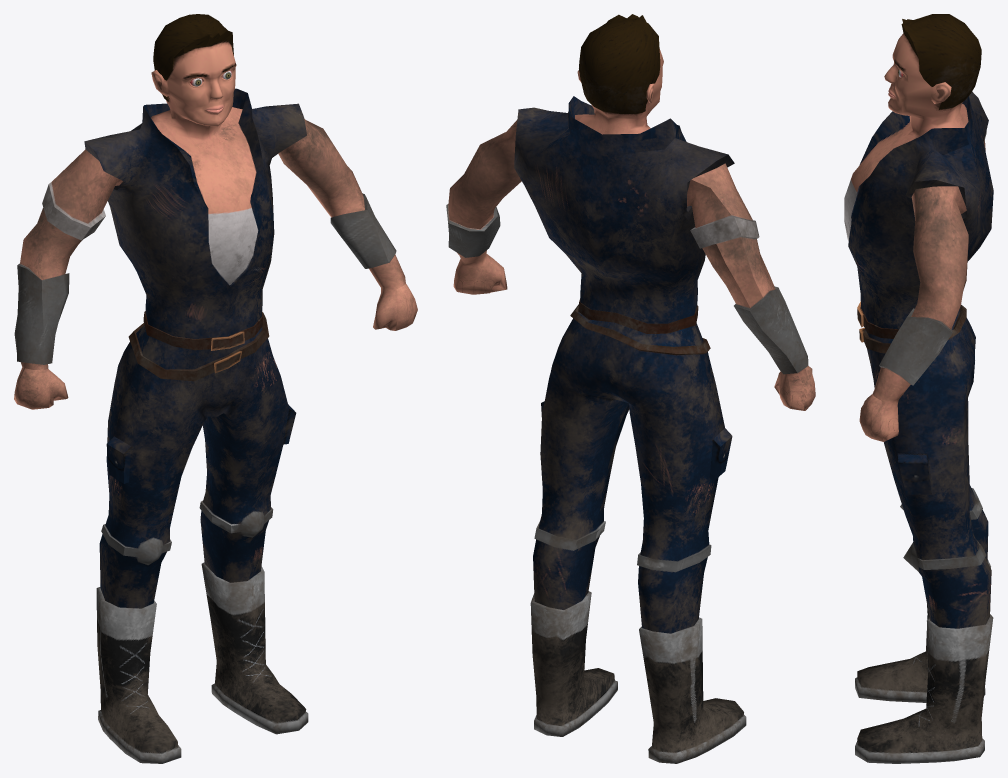
The model's file is Anim_idle_jugador.0022.obj.
3 renders of one model, left to right at view 1: azimuth 30°, elevation 25°; view 2: azimuth 150°, elevation 25°; view 3: azimuth 270°, elevation 25°, orthographic.
Parts seen in each view (by area): view 1: polySurface1; view 2: polySurface1; view 3: polySurface1.
Boxes of the visible parts, x1,y1,x2,y2 form: polySurface1: [14, 14, 417, 763]; polySurface1: [446, 14, 815, 763]; polySurface1: [844, 14, 993, 763].
Size of the model in its own units: 5.42 by 9.66 by 1.85.
